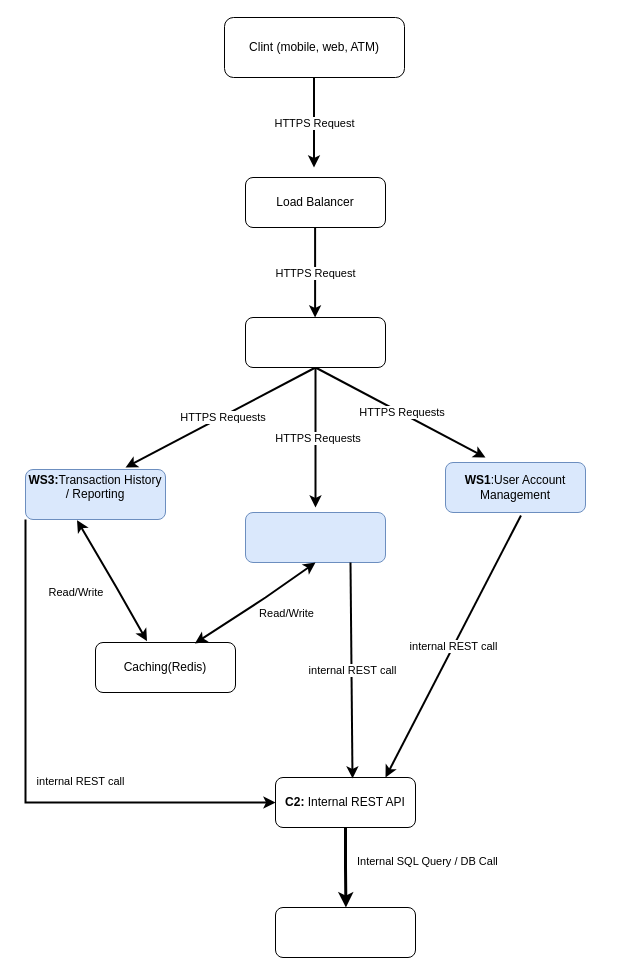
Some shapes in this 622 by 975 pixel diagram are drawn without their labels. The shapes that lost their labels are listed below. From the top down, each one's box as (x1, y1, x2, y2) in pixels, then its label:
(244, 316, 386, 368): App server
(244, 512, 386, 562): WS2: Payment/Transfer Service
(274, 906, 416, 958): C1: Secure Banking DB
